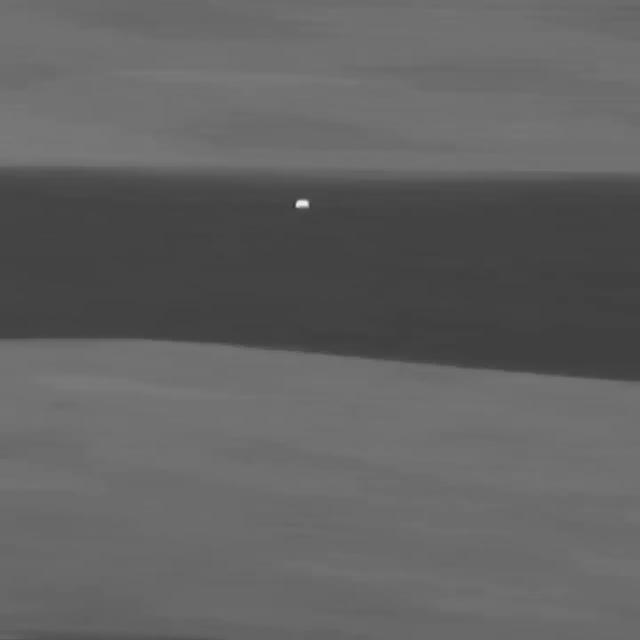baseball: (296, 199, 311, 209)
